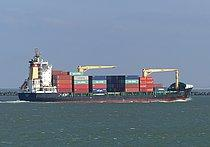Ship: (14, 44, 198, 109)
